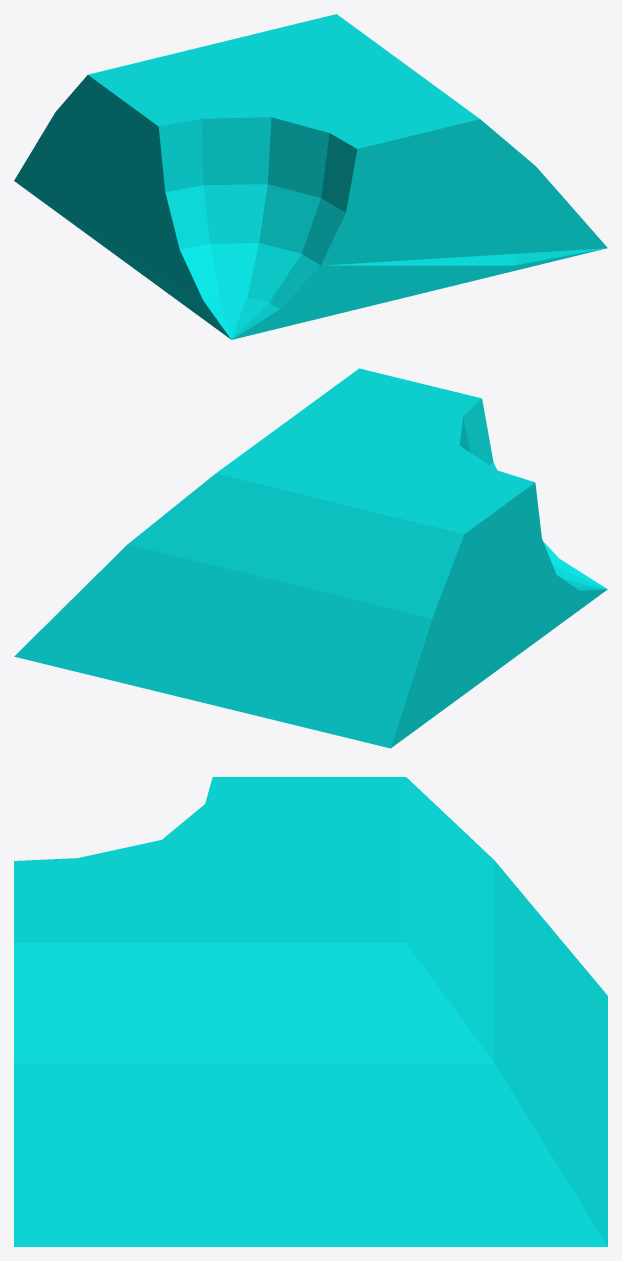
The model's file is SM_Env_Ramp_Curve_R_01_Collision.fbx.
3 views of the same model, one above another, from view 1: azimuth 30°, elevation 25°; view 2: azimuth 150°, elevation 25°; view 3: azimuth 270°, elevation 25° (orthographic). The views are drawn at different scales.
Visible parts, largest first — view 1: SM_Env_Ramp_Curve_R_01_Collision; view 2: SM_Env_Ramp_Curve_R_01_Collision; view 3: SM_Env_Ramp_Curve_R_01_Collision.
Part boxes in pixels (x1,y1,x2,y2): SM_Env_Ramp_Curve_R_01_Collision: (14, 14, 607, 339); SM_Env_Ramp_Curve_R_01_Collision: (14, 368, 607, 748); SM_Env_Ramp_Curve_R_01_Collision: (14, 777, 607, 1246).
Size of the model in its own units: 369 by 150 by 369.
